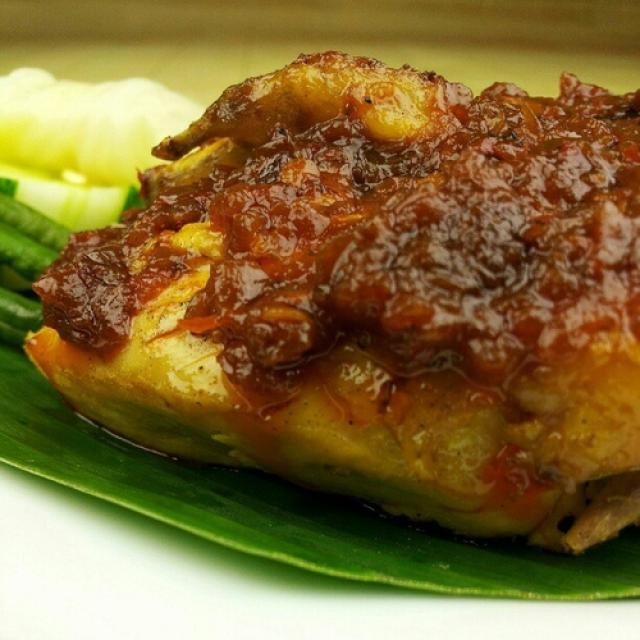鸡肉料理 含炸鸡: (12, 16, 638, 564)
